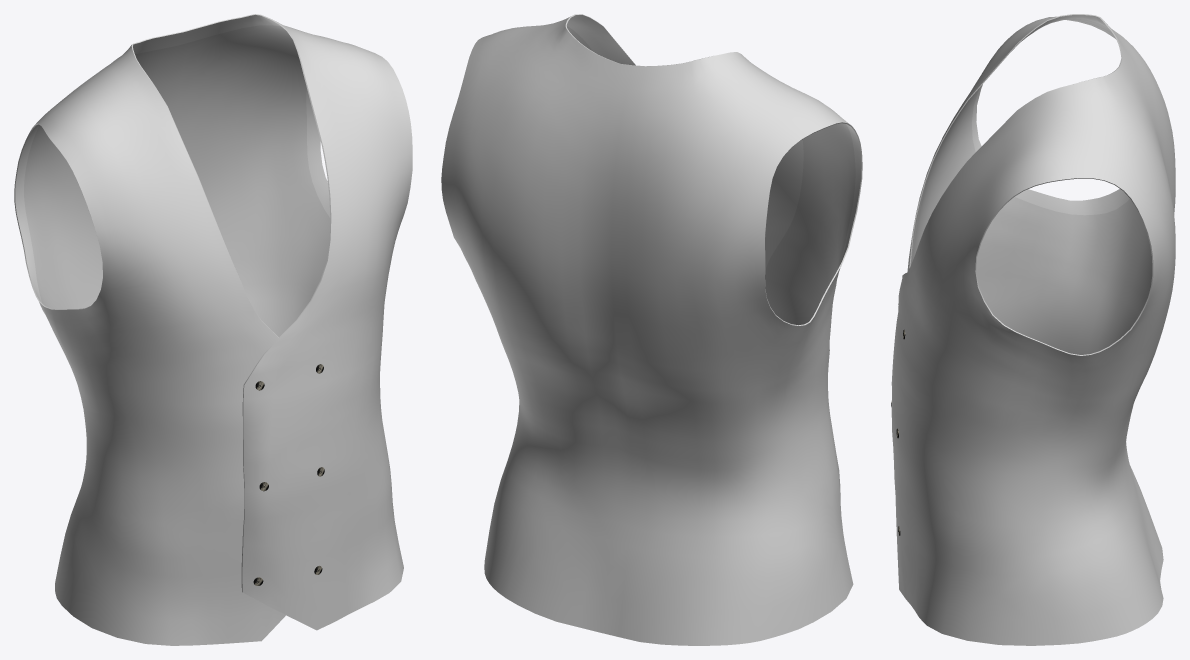
File: SM_CarlosSA_Waistcoat_FrontButtons_DB6NoLapel.fbx
3 renders of one model, left to right at view 1: azimuth 30°, elevation 25°; view 2: azimuth 150°, elevation 25°; view 3: azimuth 270°, elevation 25°, orthographic. The views are drawn at different scales.
Parts seen in each view (by area): view 1: SM_CarlosSA_Waistcoat_FrontButtons_DB6NoLapel; view 2: SM_CarlosSA_Waistcoat_FrontButtons_DB6NoLapel; view 3: SM_CarlosSA_Waistcoat_FrontButtons_DB6NoLapel.
Boxes of the visible parts, left/top/right/bottom form: SM_CarlosSA_Waistcoat_FrontButtons_DB6NoLapel: left=14, top=14, right=412, bottom=645; SM_CarlosSA_Waistcoat_FrontButtons_DB6NoLapel: left=441, top=14, right=862, bottom=645; SM_CarlosSA_Waistcoat_FrontButtons_DB6NoLapel: left=891, top=14, right=1175, bottom=645.
Size of the model in its own units: 0.3797 by 0.5809 by 0.2803.
